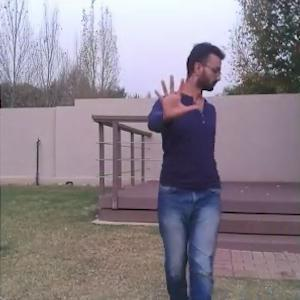follow_hand: (149, 68, 202, 126)
